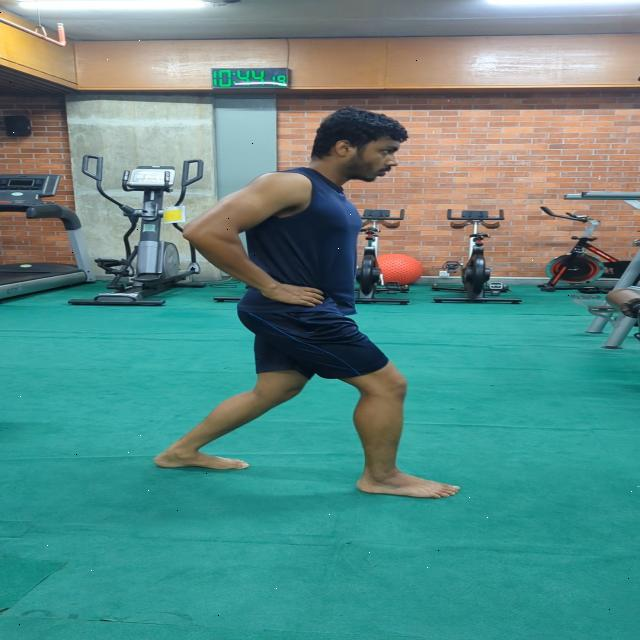Normal_Lunges: (141, 104, 504, 510)
